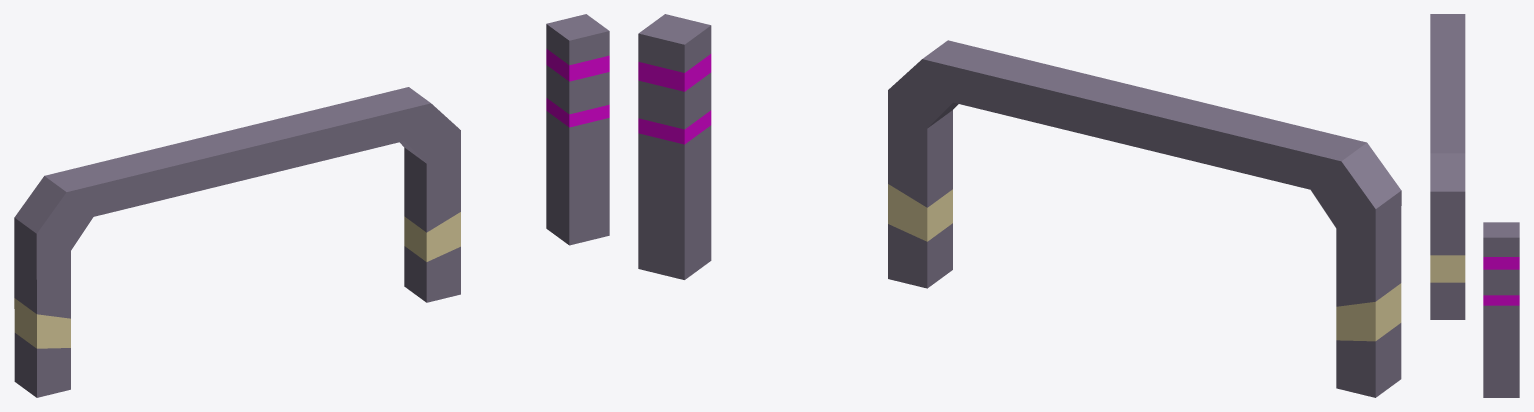
File: fence.fbx
The picture shows the model from 3 angles, left to right: view 1: azimuth 30°, elevation 25°; view 2: azimuth 150°, elevation 25°; view 3: azimuth 270°, elevation 25°; orthographic projection. The views are drawn at different scales.
Parts seen in each view (by area): view 1: polySurface84; view 2: polySurface84; view 3: polySurface84.
Part boxes in pixels (left/top/right/bottom): polySurface84: left=14, top=14, right=609, bottom=397; polySurface84: left=638, top=14, right=1401, bottom=397; polySurface84: left=1430, top=14, right=1519, bottom=397.
Size of the model in its own units: 0.0742 by 0.0244 by 0.0121.
